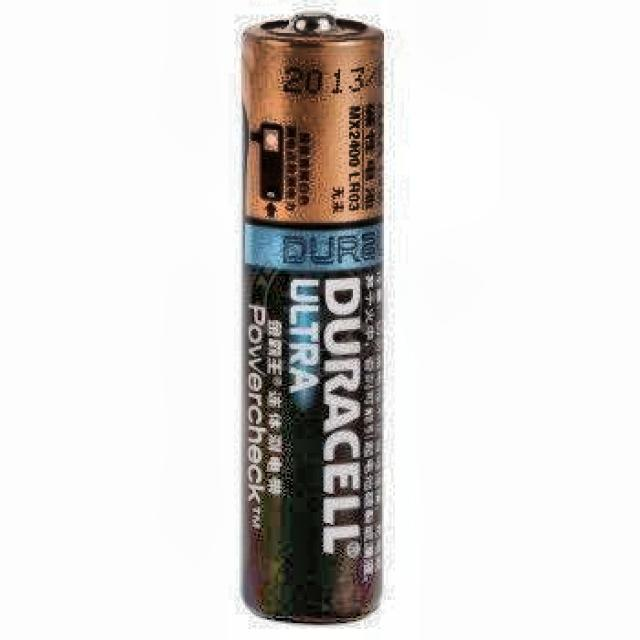Non-Valuable Waste - Batteries: (243, 13, 383, 623)
